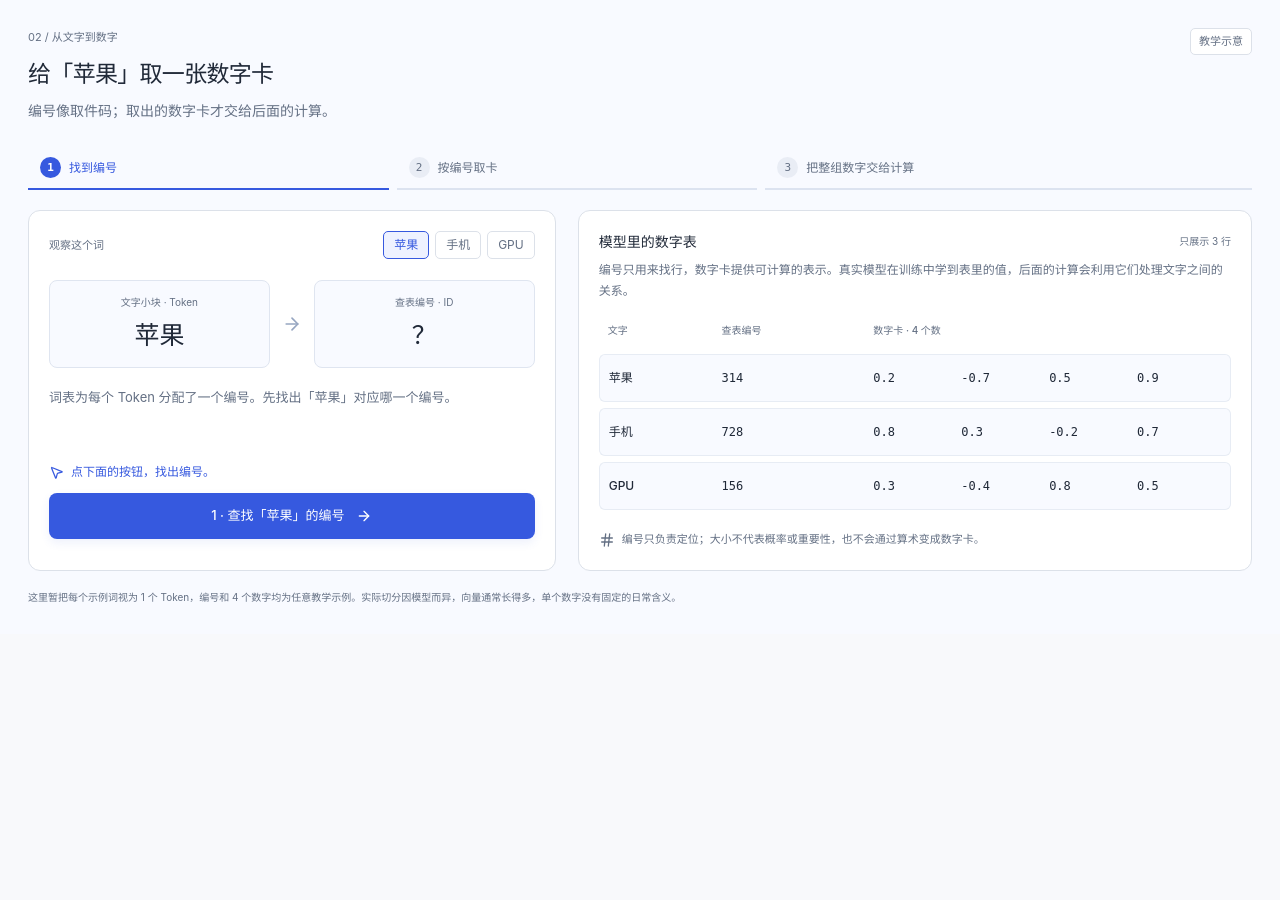
EmbeddingDemo › resets lookup when switching words and retrieves the selected word’s row
Click the button "1 · 查找「苹果」的编号" at (292, 516), box x1=49 y1=493 x2=535 y2=539
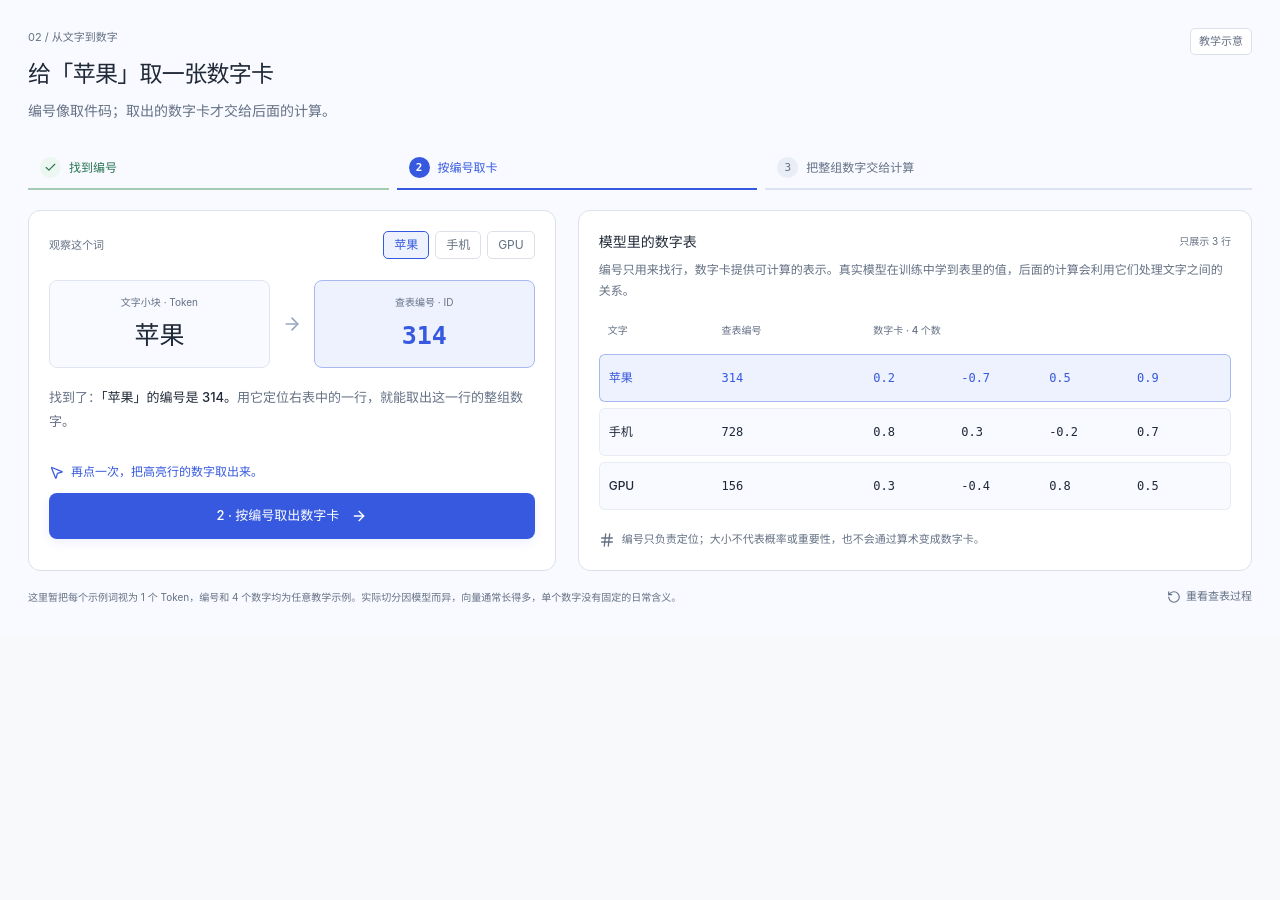
Click the button "2 · 按编号取出数字卡" at (292, 516), box x1=49 y1=493 x2=535 y2=539
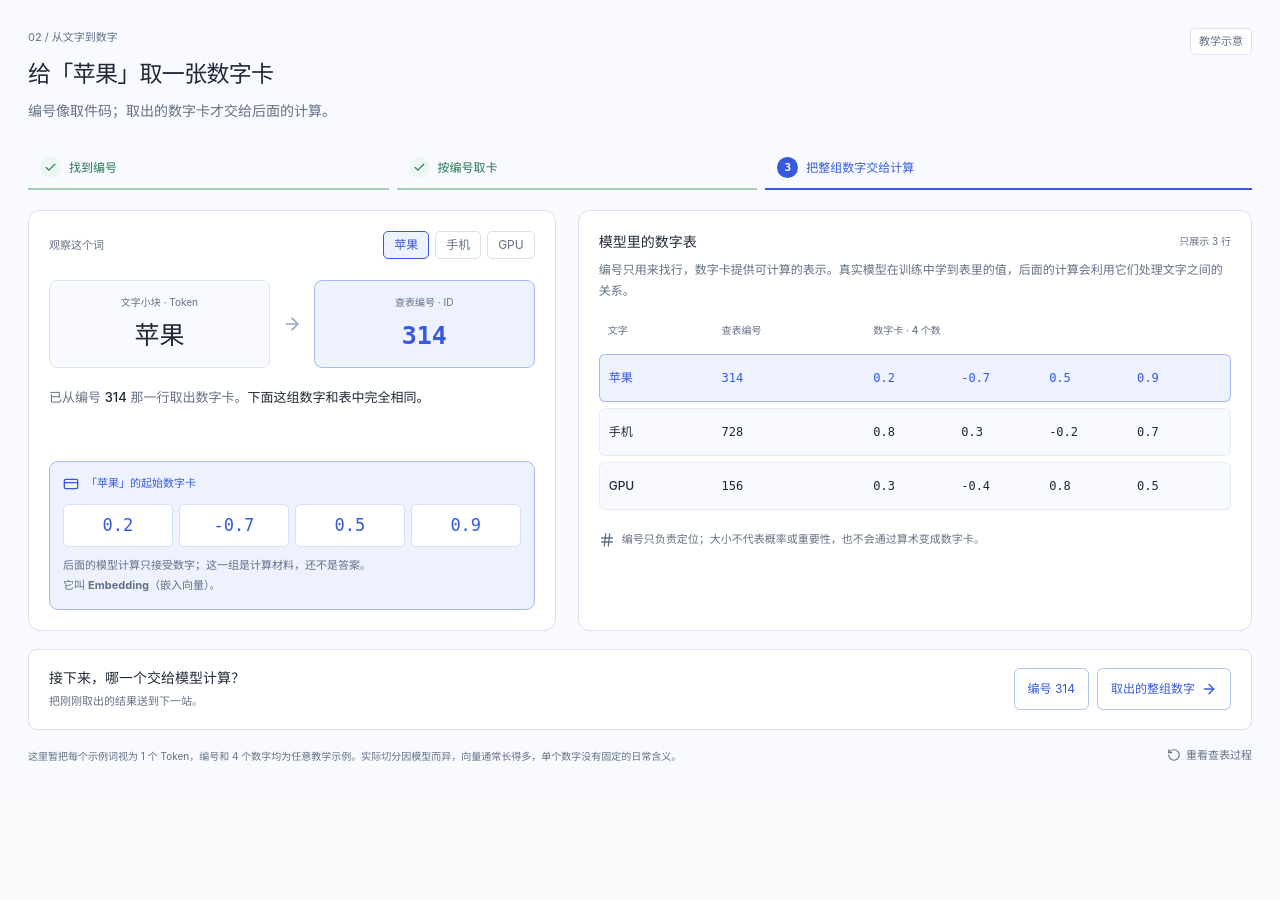
Click the button "编号 314" at (1051, 690), box x1=1014 y1=668 x2=1089 y2=710
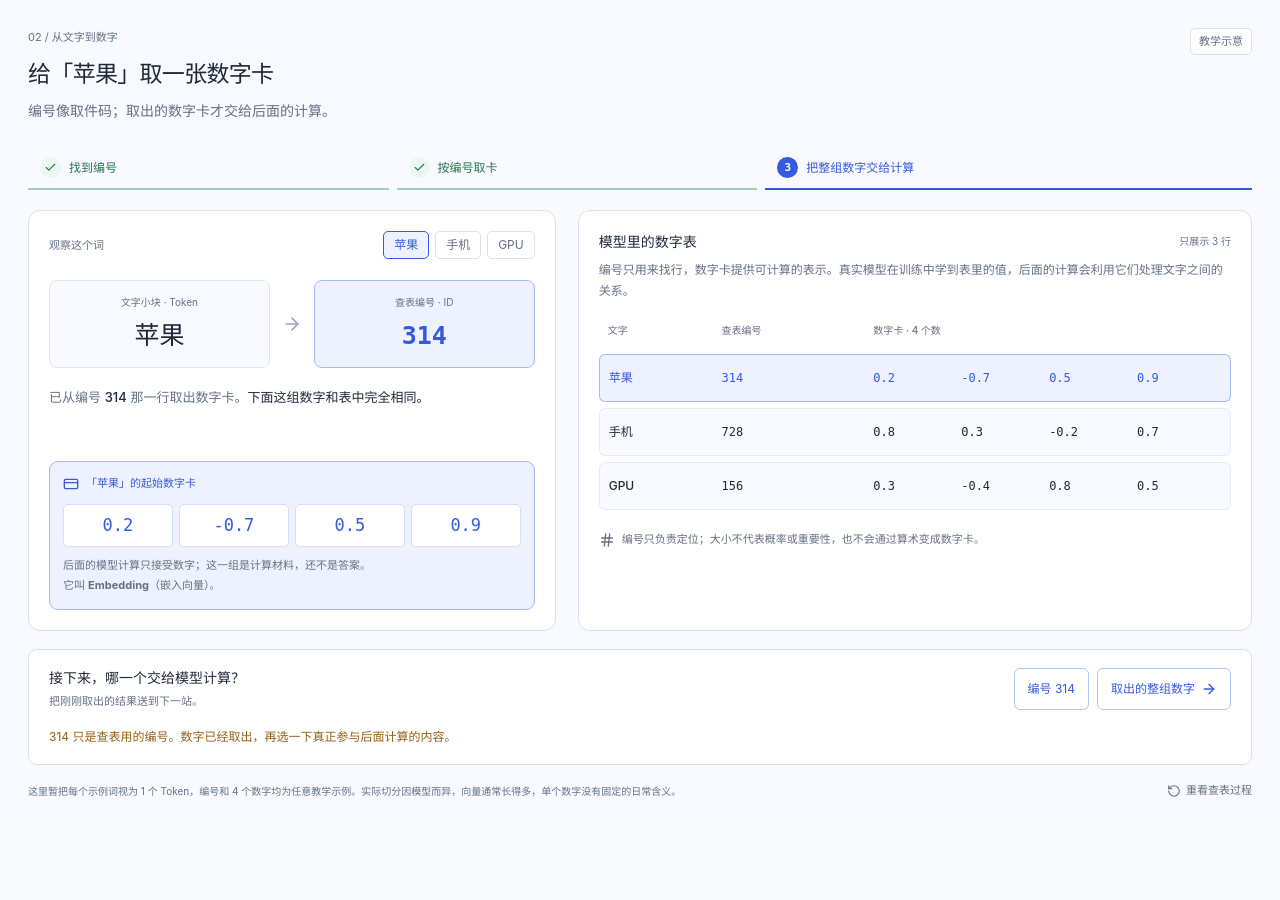
Click the button with aria-label "改看「手机」" at (458, 246), box x1=435 y1=232 x2=481 y2=260
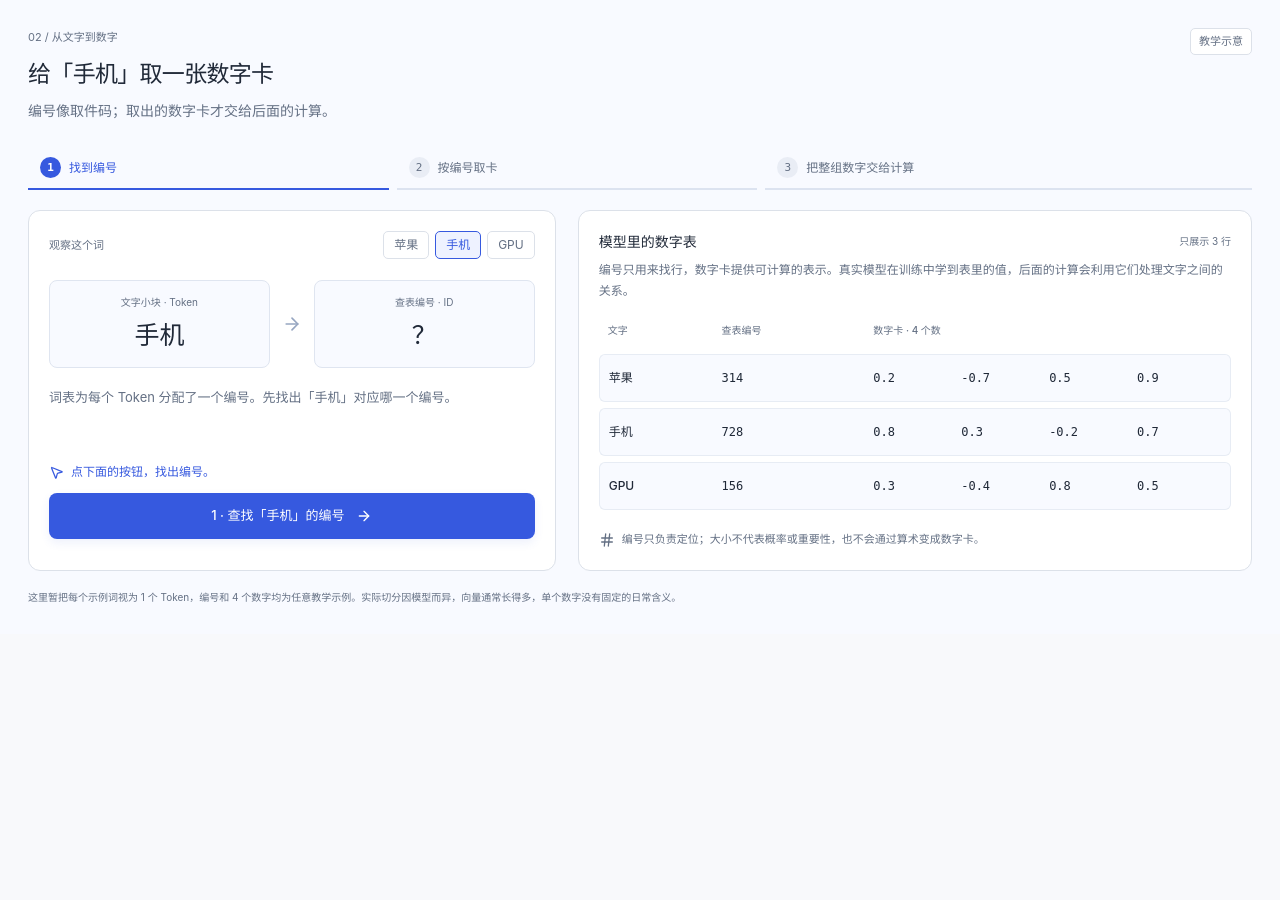
Expected: the message "314 只是查表用的编号。数字已经取出，再选一下真正参与后面计算的内容。" is gone
Click the button "1 · 查找「手机」的编号" at (292, 516), box x1=49 y1=493 x2=535 y2=539
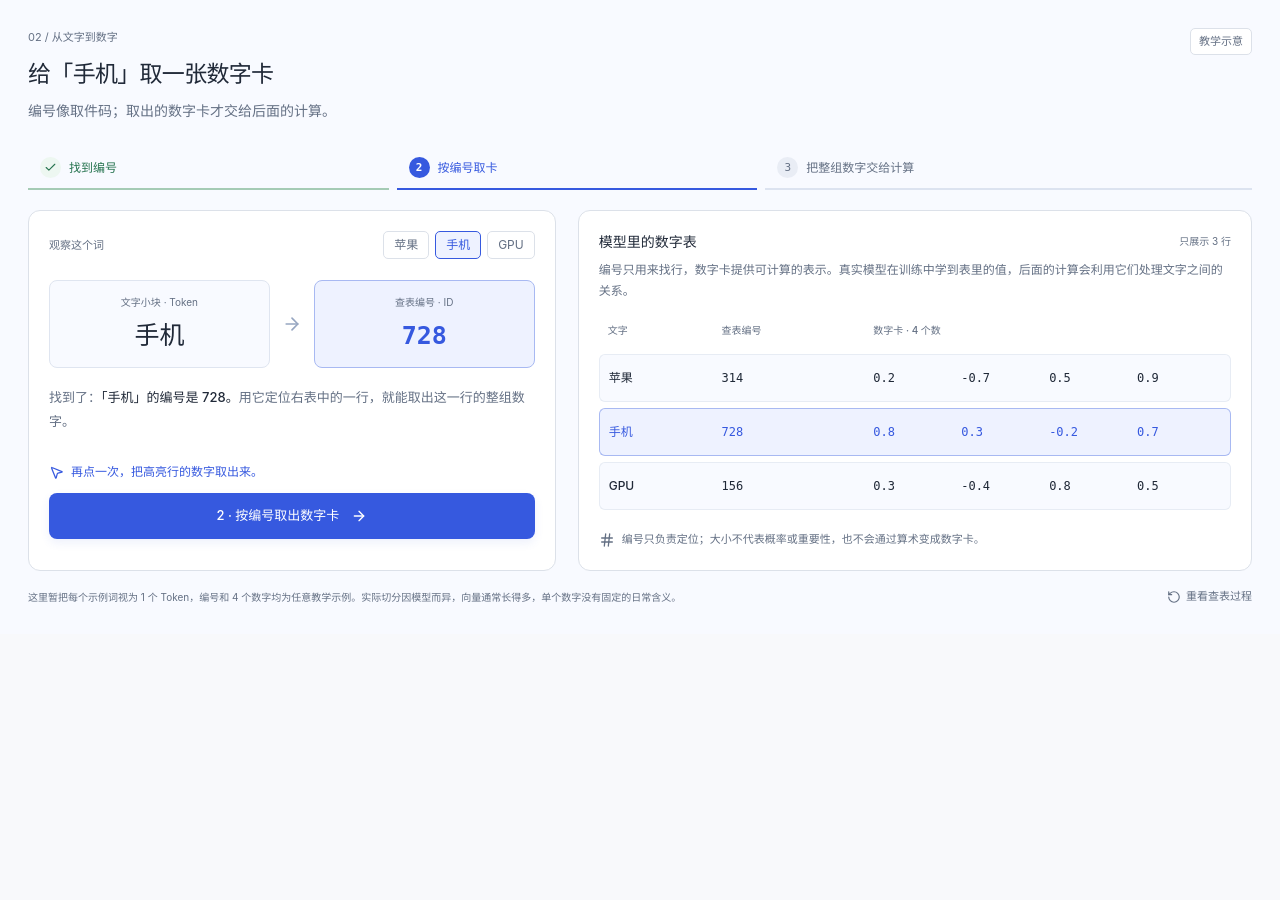
Expected: the row named "已找到「手机」对应的行" is shown, x1=599 y1=408 x2=1231 y2=456
Click the button "2 · 按编号取出数字卡" at (292, 516), box x1=49 y1=493 x2=535 y2=539
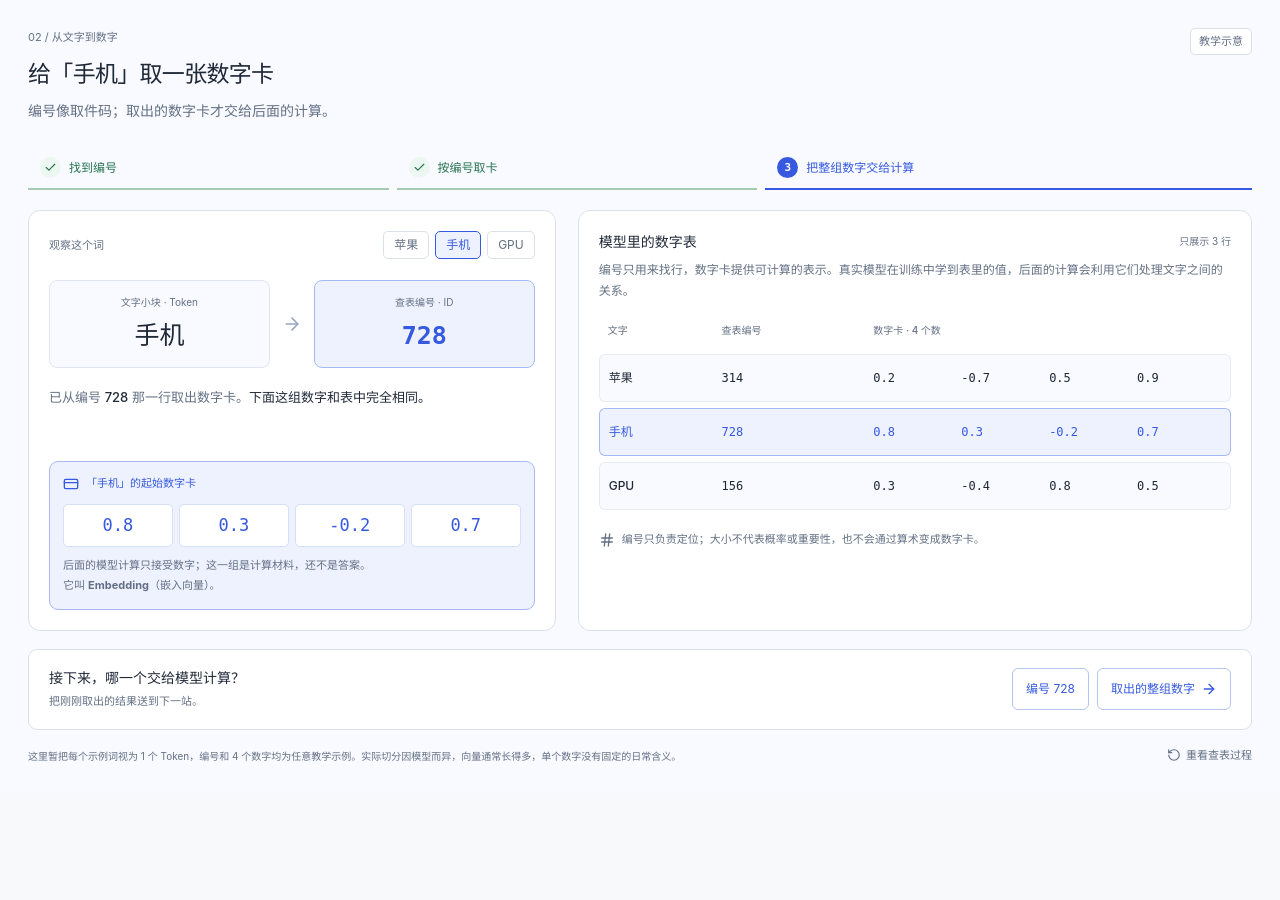
Expected: the text "0.8" below "」的起始数字卡" is shown, x1=103 y1=515 x2=133 y2=535
Expected: the button "编号 728" is shown, x1=1012 y1=668 x2=1089 y2=710
